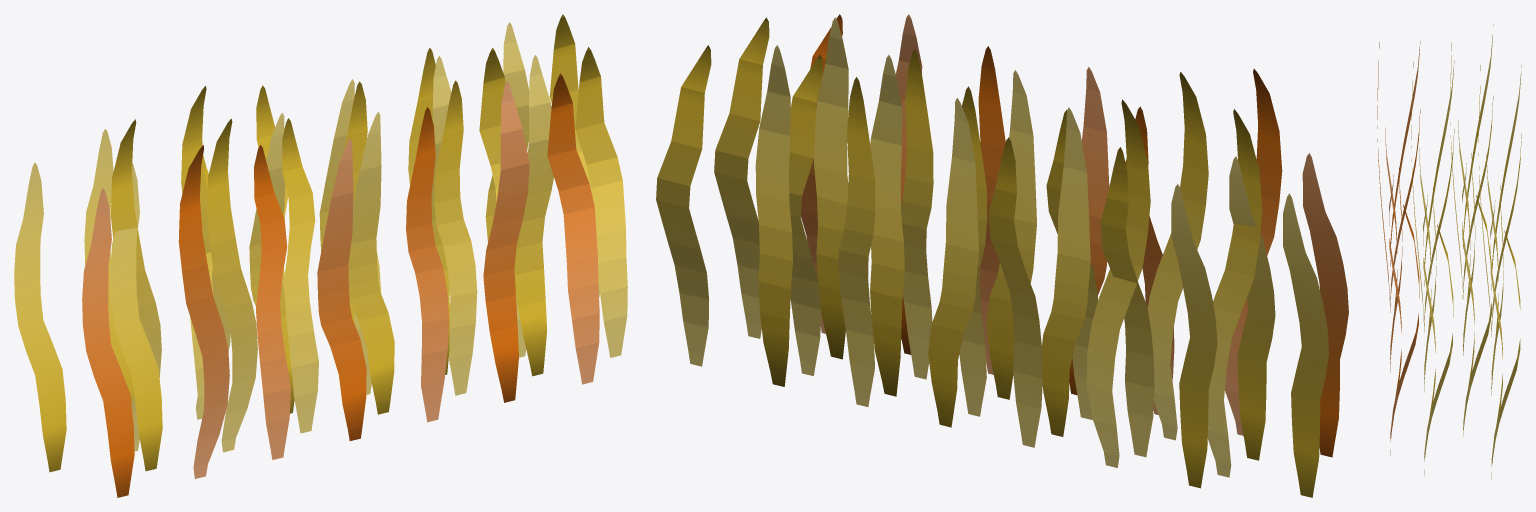
Rendered from plantA_002.fbx.
The picture shows the model from 3 angles, left to right: view 1: azimuth 30°, elevation 25°; view 2: azimuth 150°, elevation 25°; view 3: azimuth 270°, elevation 25°; orthographic projection. The views are drawn at different scales.
Visible parts, largest first — view 1: plantA.002; view 2: plantA.002; view 3: plantA.002.
Part boxes in pixels (x1,y1,x2,y2): plantA.002: (14,14,627,497); plantA.002: (656,14,1348,497); plantA.002: (1377,24,1521,479).
Bounding box in the file's own units: 145 × 77.45 × 35.53.
